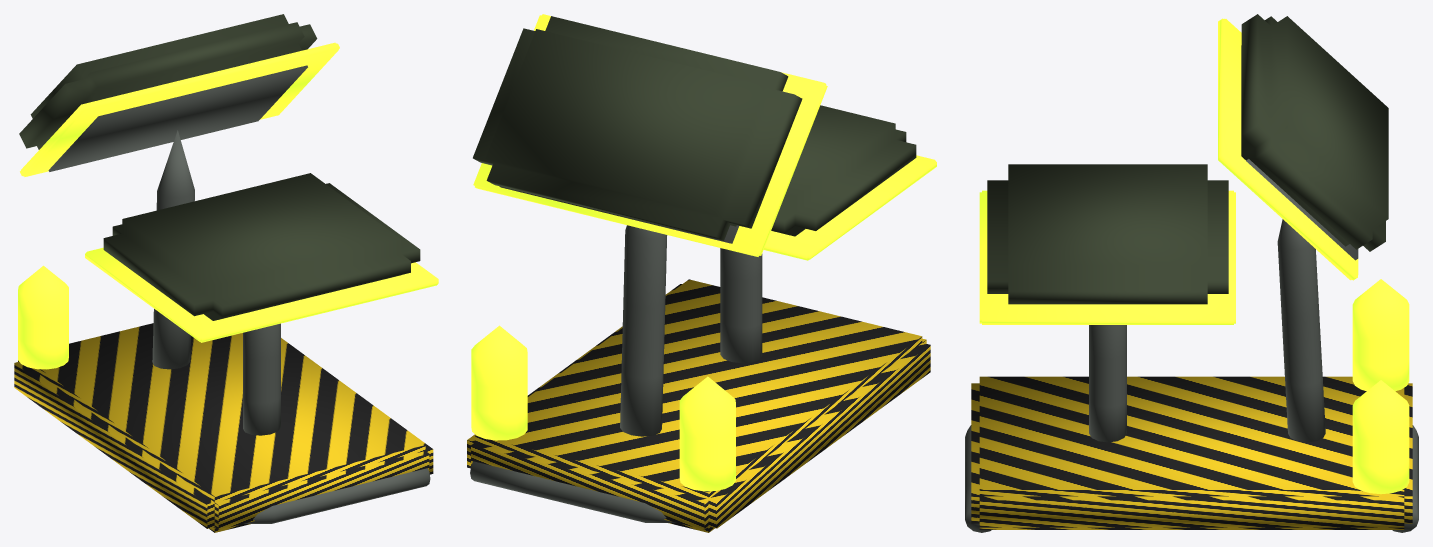
File: ToxicBench.fbx
The picture shows the model from 3 angles, left to right: view 1: azimuth 30°, elevation 25°; view 2: azimuth 150°, elevation 25°; view 3: azimuth 270°, elevation 25°; orthographic projection. The views are drawn at different scales.
Parts seen in each view (by area): view 1: ToxicBench, ToxicBench_Glow; view 2: ToxicBench, ToxicBench_Glow; view 3: ToxicBench, ToxicBench_Glow.
Boxes of the visible parts, box(x1,y1,x2,y2) form: ToxicBench: box(14, 14, 433, 532); ToxicBench_Glow: box(18, 42, 438, 369); ToxicBench: box(467, 16, 930, 532); ToxicBench_Glow: box(471, 14, 936, 491); ToxicBench: box(965, 14, 1418, 532); ToxicBench_Glow: box(979, 18, 1409, 494).
Bounding box in the file's own units: 226 × 311 × 313.
Materials: 2 (1 with a texture image).
